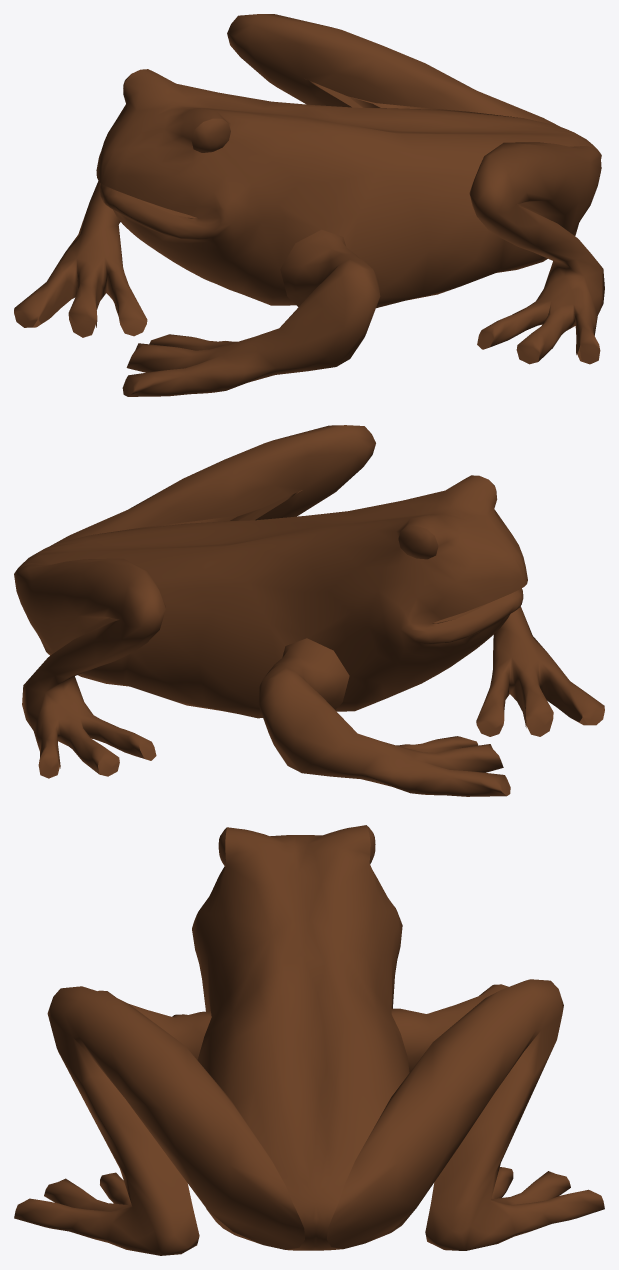
File: shit frog.fbx
3 renders of one model, top to bottom at view 1: azimuth 30°, elevation 25°; view 2: azimuth 150°, elevation 25°; view 3: azimuth 270°, elevation 25°, orthographic. The views are drawn at different scales.
Visible parts, largest first — view 1: material_0; view 2: material_0; view 3: material_0.
Part boxes in pixels (box(x1,y1,x2,y2)): material_0: box(14, 14, 604, 396); material_0: box(14, 425, 604, 796); material_0: box(14, 825, 604, 1255).
Size of the model in its own units: 182 by 77.85 by 167.
